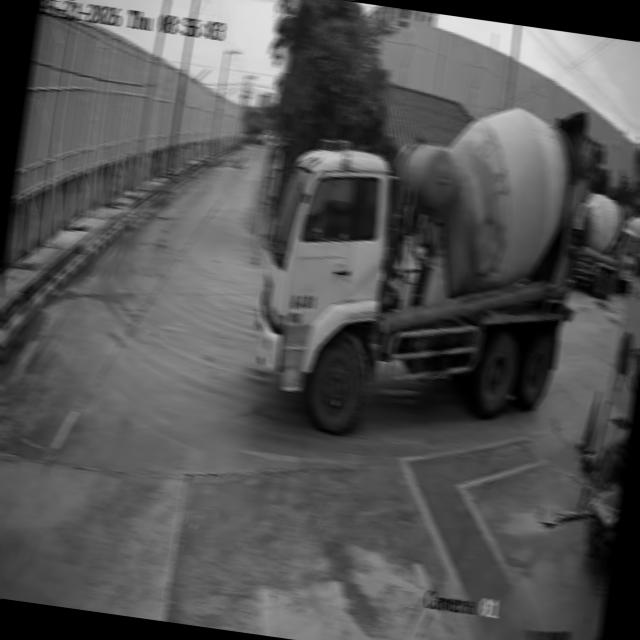cement_mixer_truck: (247, 73, 595, 436), (570, 191, 625, 292), (613, 229, 640, 282), (627, 215, 640, 252)
